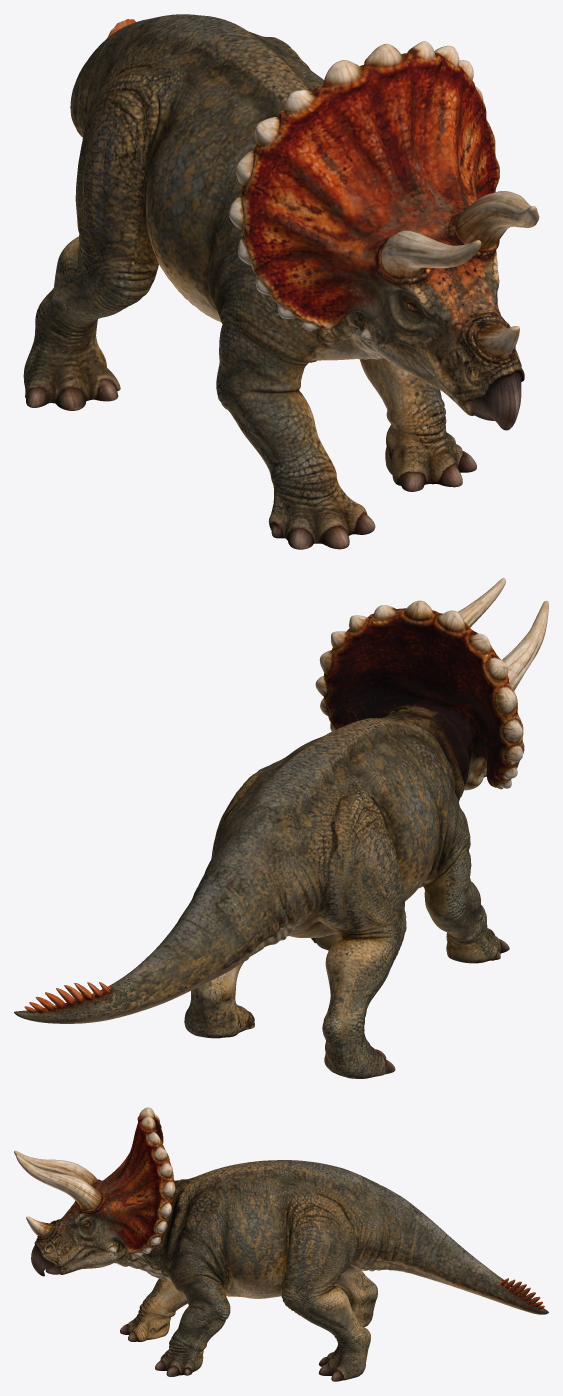
Rendered from triceratops.glb.
3 renders of one model, top to bottom at view 1: azimuth 30°, elevation 25°; view 2: azimuth 150°, elevation 25°; view 3: azimuth 270°, elevation 25°, orthographic. The views are drawn at different scales.
Parts seen in each view (by area): view 1: triceratops; view 2: triceratops; view 3: triceratops.
Boxes of the visible parts, x1,y1,x2,y2 form: triceratops: (23, 14, 539, 549); triceratops: (14, 578, 548, 1078); triceratops: (14, 1107, 548, 1381).
Size of the model in its own units: 2.94 by 4.08 by 8.5.
1 material, 1 textured.
